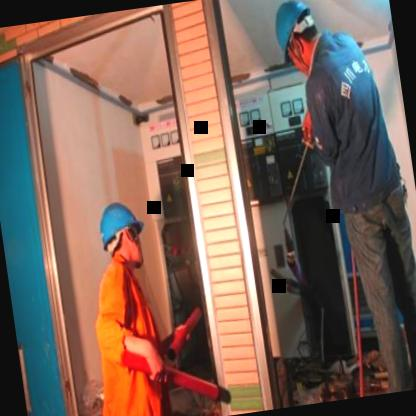helmet: (90, 190, 152, 279), (268, 0, 332, 81)
